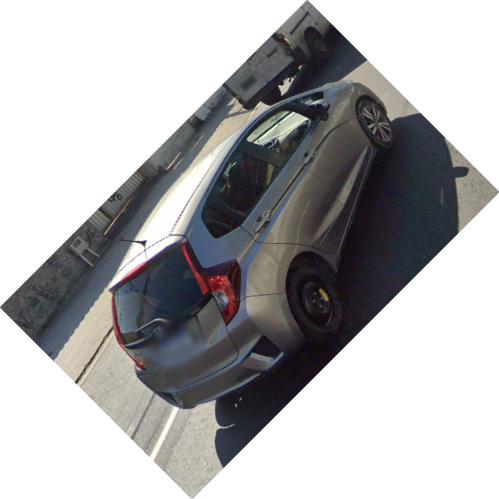car: (106, 81, 396, 410)
